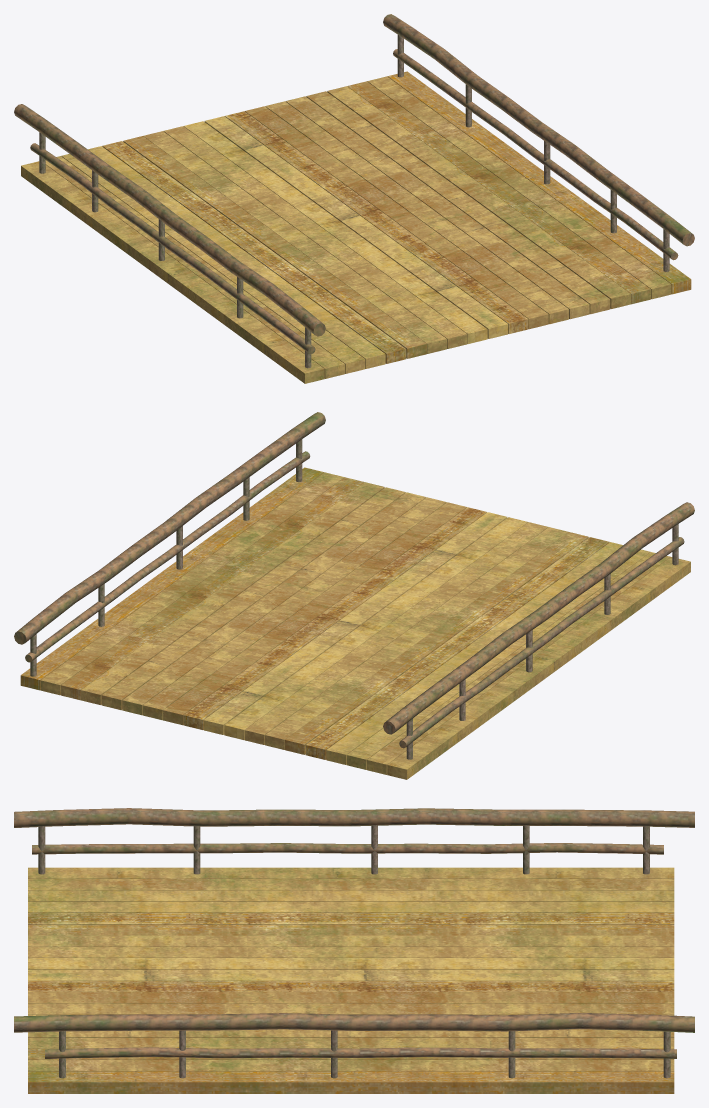
File: hashi.fbx
3 renders of one model, top to bottom at view 1: azimuth 30°, elevation 25°; view 2: azimuth 150°, elevation 25°; view 3: azimuth 270°, elevation 25°, orthographic. The views are drawn at different scales.
Visible parts, largest first — view 1: hashi1; view 2: hashi1; view 3: hashi1.
Boxes of the visible parts, x1,y1,x2,y2 form: hashi1: [14, 14, 694, 383]; hashi1: [14, 412, 694, 779]; hashi1: [14, 808, 694, 1093].
Bounding box in the file's own units: 785 × 128 × 1054.
Materials: 1 (1 with a texture image).
